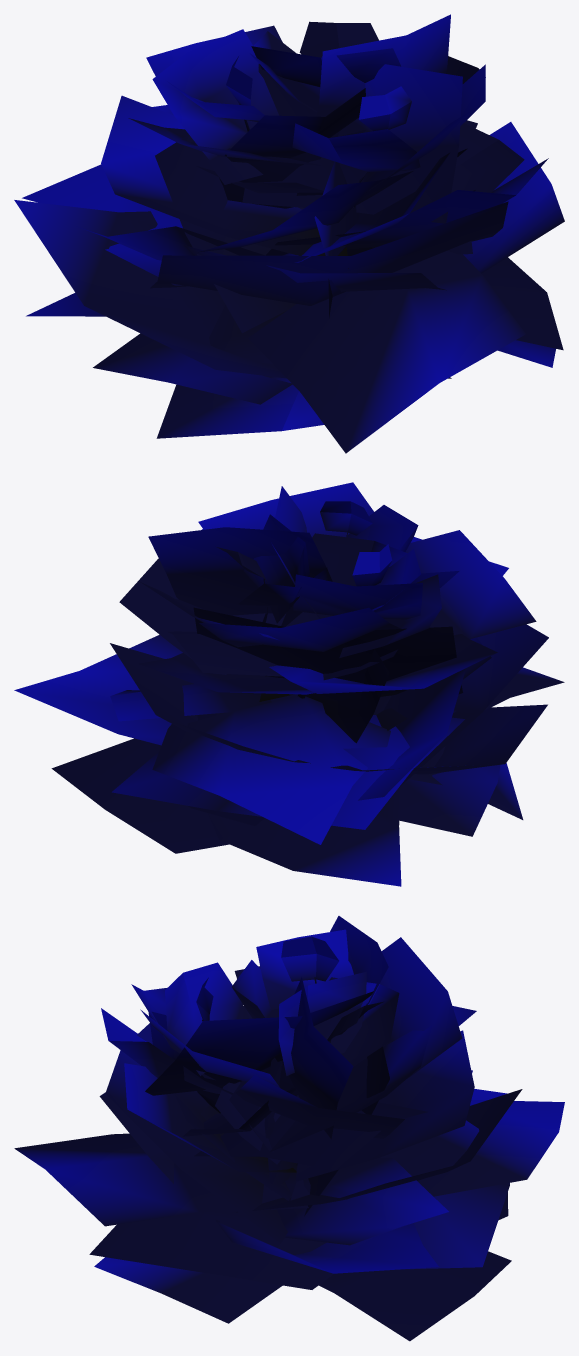
The model's file is SM_Foliage_ShrubA_02.fbx.
3 renders of one model, top to bottom at view 1: azimuth 30°, elevation 25°; view 2: azimuth 150°, elevation 25°; view 3: azimuth 270°, elevation 25°, orthographic. The views are drawn at different scales.
Visible parts, largest first — view 1: SM_Foliage_ShrubA_02; view 2: SM_Foliage_ShrubA_02; view 3: SM_Foliage_ShrubA_02.
Part boxes in pixels (x1=…): SM_Foliage_ShrubA_02: x1=14, y1=14, x2=564, y2=453; SM_Foliage_ShrubA_02: x1=14, y1=482, x2=564, y2=886; SM_Foliage_ShrubA_02: x1=14, y1=916, x2=564, y2=1341.
Size of the model in its own units: 382 by 404 by 231.
